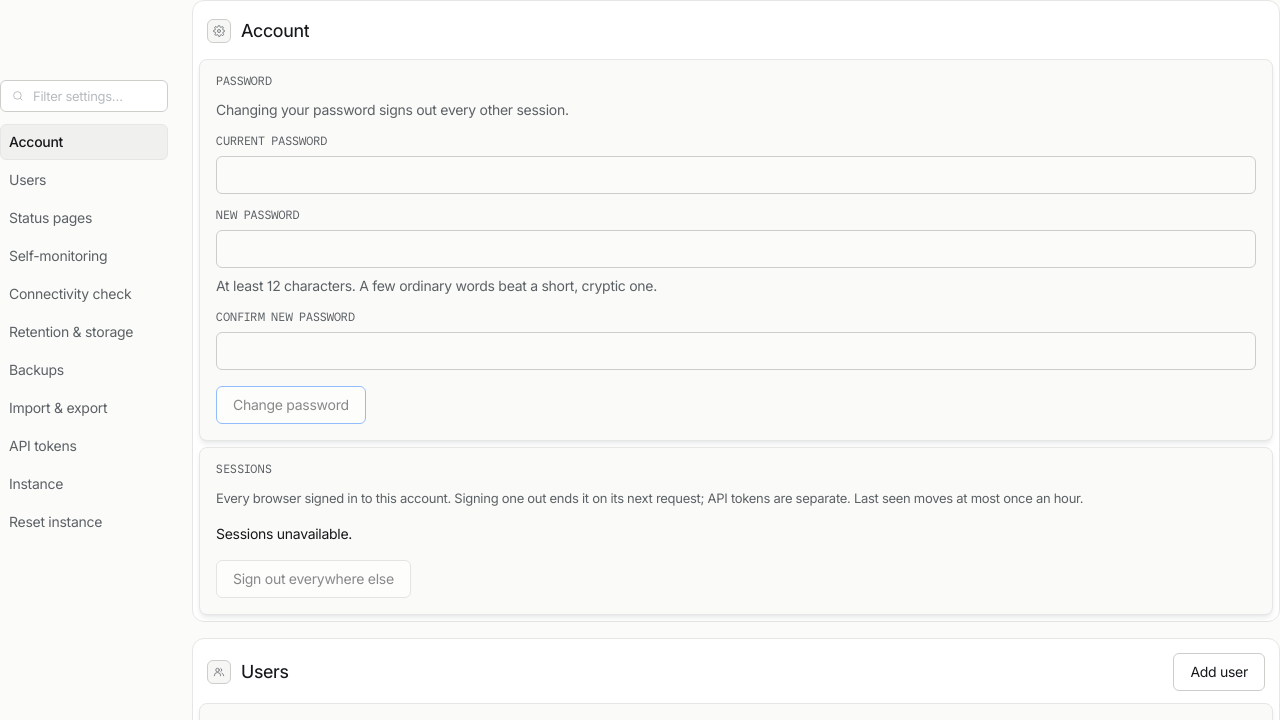
Test: offers status pages to an administrator only, beside Users
Type "public" into the search field labelled "Filter settings". click: {"x": 95, "y": 96}
box: [33,88,157,104]
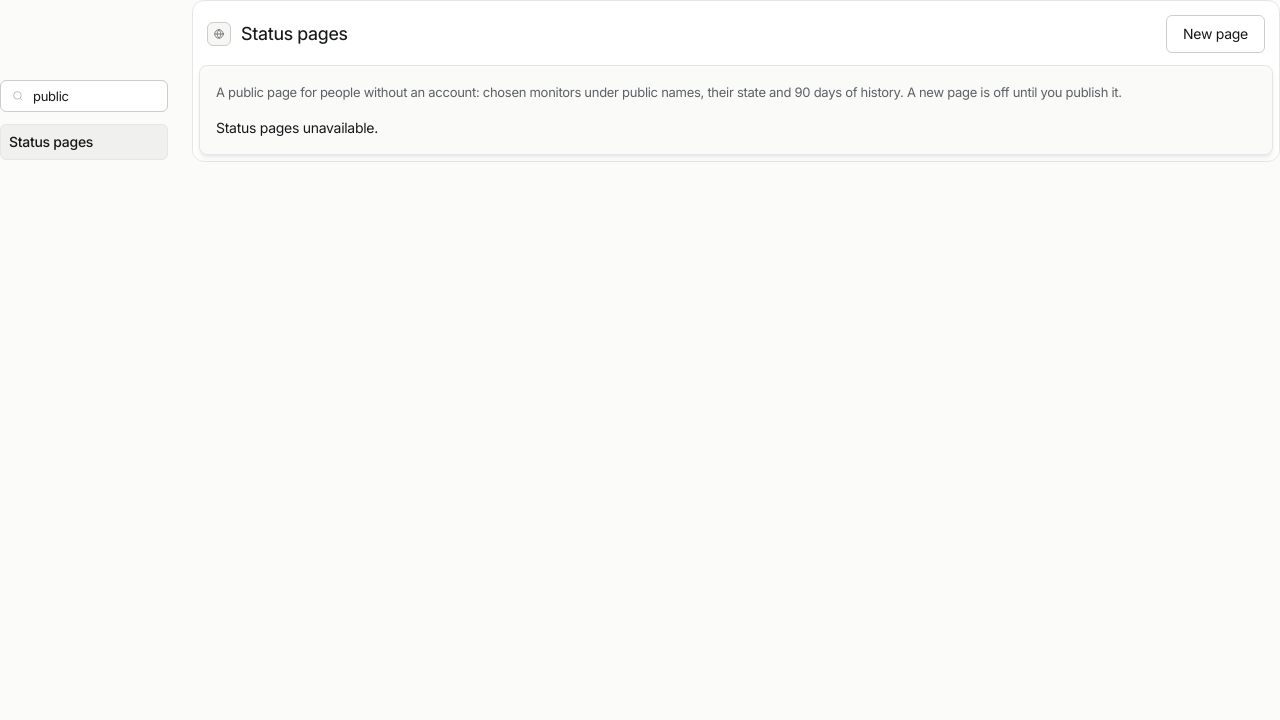
Expected: the links read "Status pages", in this order, [0,124,168,160]
